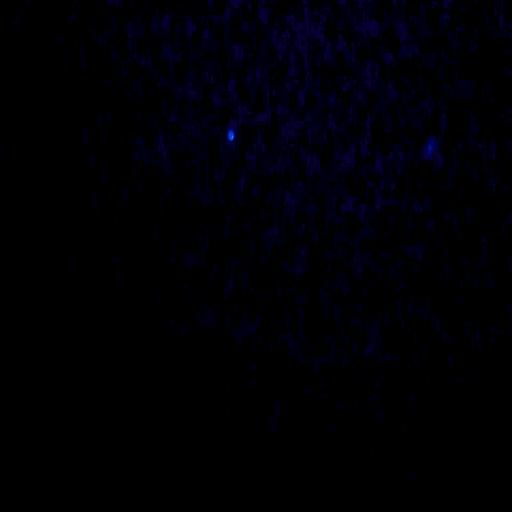object-detection-project: (227, 126, 235, 142)
